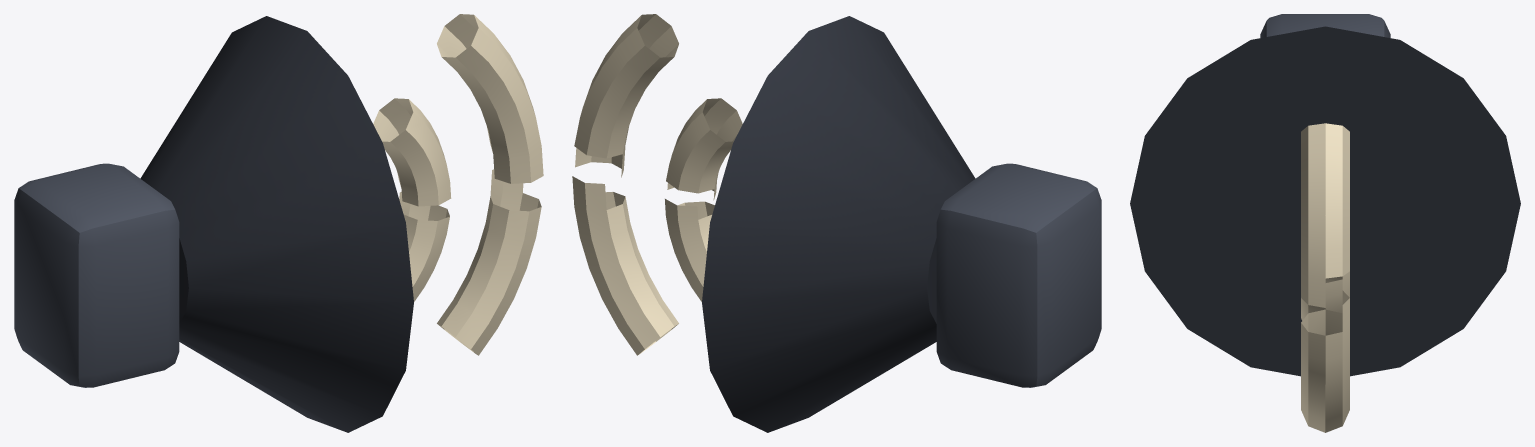
File: icon_sound_on.glb
3 renders of one model, left to right at view 1: azimuth 30°, elevation 25°; view 2: azimuth 150°, elevation 25°; view 3: azimuth 270°, elevation 25°, orthographic. The views are drawn at different scales.
Parts seen in each view (by area): view 1: SoundOn; view 2: SoundOn; view 3: SoundOn.
Part boxes in pixels (bbox=[...]): SoundOn: bbox=[14, 14, 543, 432]; SoundOn: bbox=[572, 14, 1101, 432]; SoundOn: bbox=[1130, 14, 1520, 432].
Size of the model in its own units: 0.975 by 0.72 by 0.72.
1 material, 1 textured.
